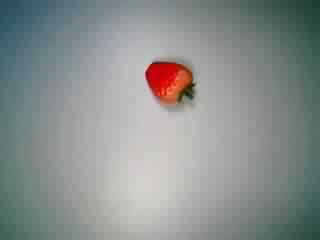strawberry: (135, 49, 203, 113)
